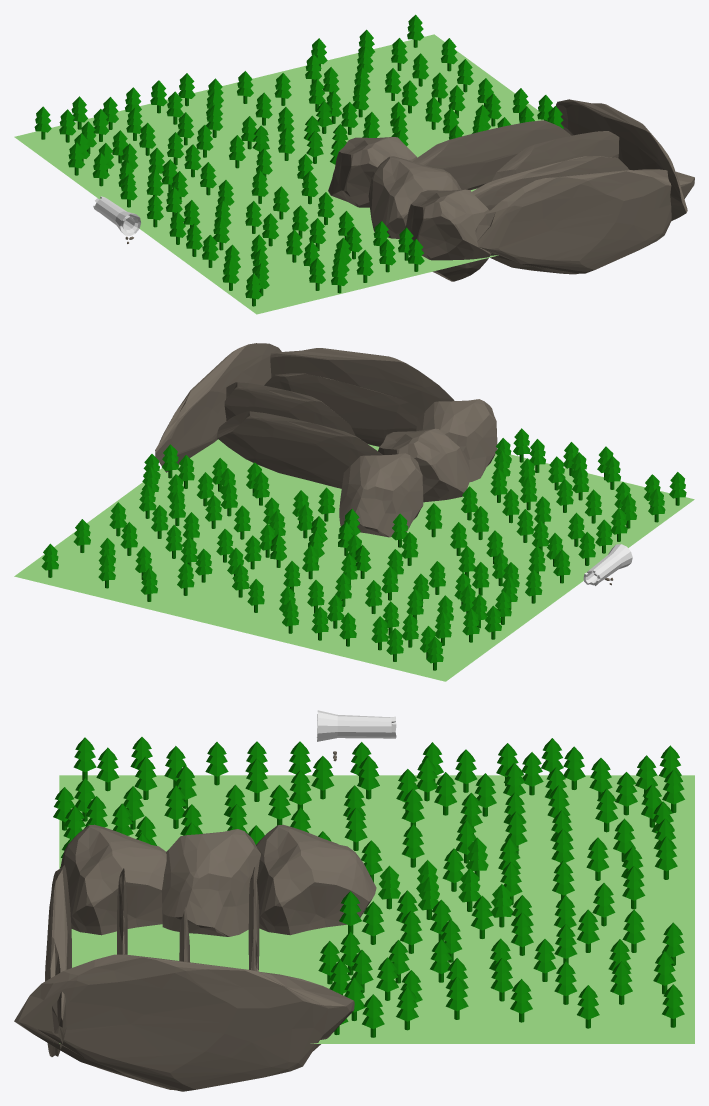
The model's file is Prototipolevel2blend (1).fbx.
3 renders of one model, top to bottom at view 1: azimuth 30°, elevation 25°; view 2: azimuth 150°, elevation 25°; view 3: azimuth 270°, elevation 25°, orthographic. The views are drawn at different scales.
Visible parts, largest first — view 1: Plane, piedra2.005, piedra3, piedra2.001, piedra2.004, piedra3.001, piedra3.002, piedra2.002, piedra2.003, Cylinder; view 2: Plane, piedra2.001, piedra2.004, piedra3.002, piedra2.005, piedra2.003, piedra3.001, piedra3, piedra2.002, Cylinder; view 3: Plane, piedra2.004, piedra3.002, piedra3.001, piedra3, piedra2.005, Cylinder, piedra2.001, piedra2.003, pino.111, pino.115, pino.113 (+40 smaller).
Boxes of the visible parts, x1,y1,x2,y2 form: Plane: (14,34,543,314); piedra2.005: (475,169,694,274); piedra3: (405,189,491,281); piedra2.001: (413,120,571,190); piedra2.004: (556,99,687,220); piedra3.001: (368,156,461,238); piedra3.002: (328,137,417,207); piedra2.002: (492,131,619,180); piedra2.003: (472,156,629,210); Cylinder: (93,196,140,235); Plane: (14,439,694,681); piedra2.001: (217,411,382,488); piedra2.004: (155,343,281,472); piedra3.002: (339,453,423,537); piedra2.005: (270,348,454,410); piedra2.003: (264,373,425,446); piedra3.001: (378,428,470,502); piedra3: (416,399,497,482); piedra2.002: (224,382,355,435); Cylinder: (583,544,632,585); Plane: (59,775,694,1043); piedra2.004: (14,954,354,1091); piedra3.002: (256,824,376,935); piedra3.001: (161,829,260,936); piedra3: (60,824,166,935); piedra2.005: (45,865,71,1056); Cylinder: (317,710,396,741); piedra2.001: (248,867,259,971); piedra2.003: (117,868,127,954); pino.111: (378,865,400,909); pino.115: (491,884,513,927); pino.113: (458,868,480,911).
Bounding box in the file's own units: 4547 × 937 × 4290.
